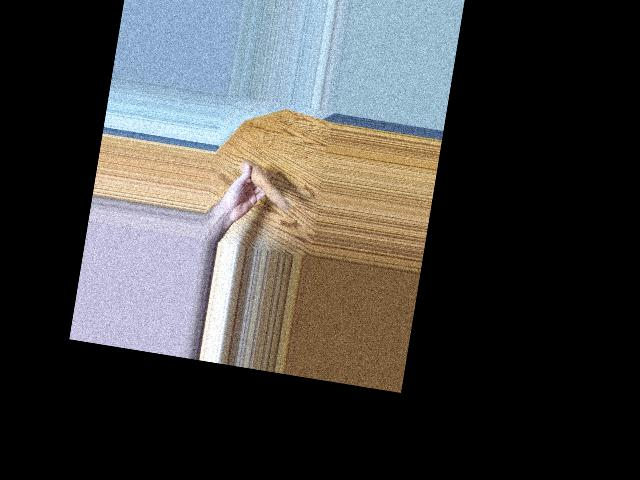sweet_potato: (234, 161, 295, 212)
